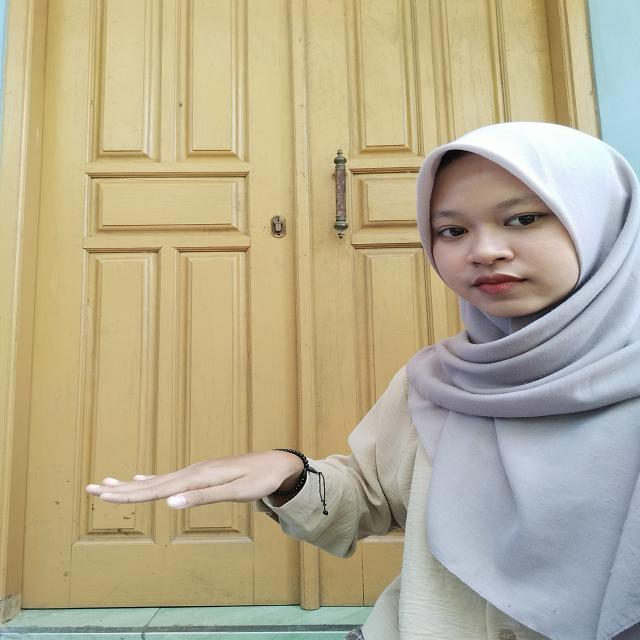adik: (68, 439, 325, 527)
